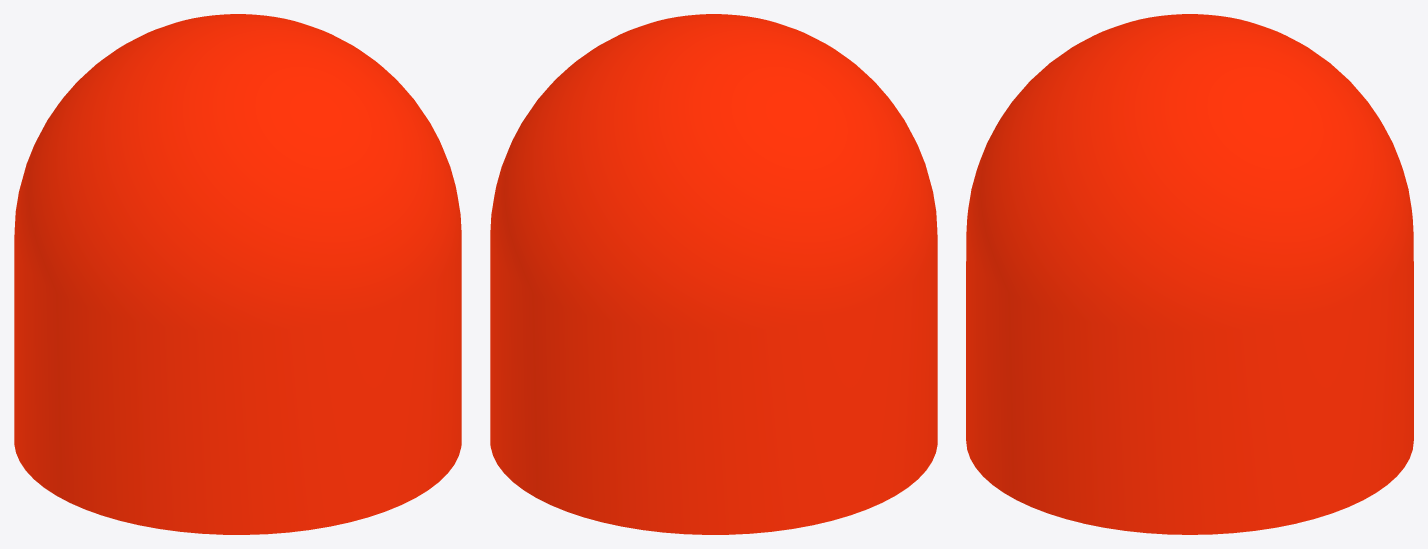
Rendered from globe.gltf.
3 renders of one model, left to right at view 1: azimuth 30°, elevation 25°; view 2: azimuth 150°, elevation 25°; view 3: azimuth 270°, elevation 25°, orthographic.
Visible parts, largest first — view 1: Glass Outside; view 2: Glass Outside; view 3: Glass Outside.
Boxes of the visible parts, box(x1,y1,x2,y2) form: Glass Outside: box(14, 14, 461, 534); Glass Outside: box(490, 14, 937, 534); Glass Outside: box(966, 14, 1413, 534).
Bounding box in the file's own units: 20.61 × 20.6 × 20.61.
